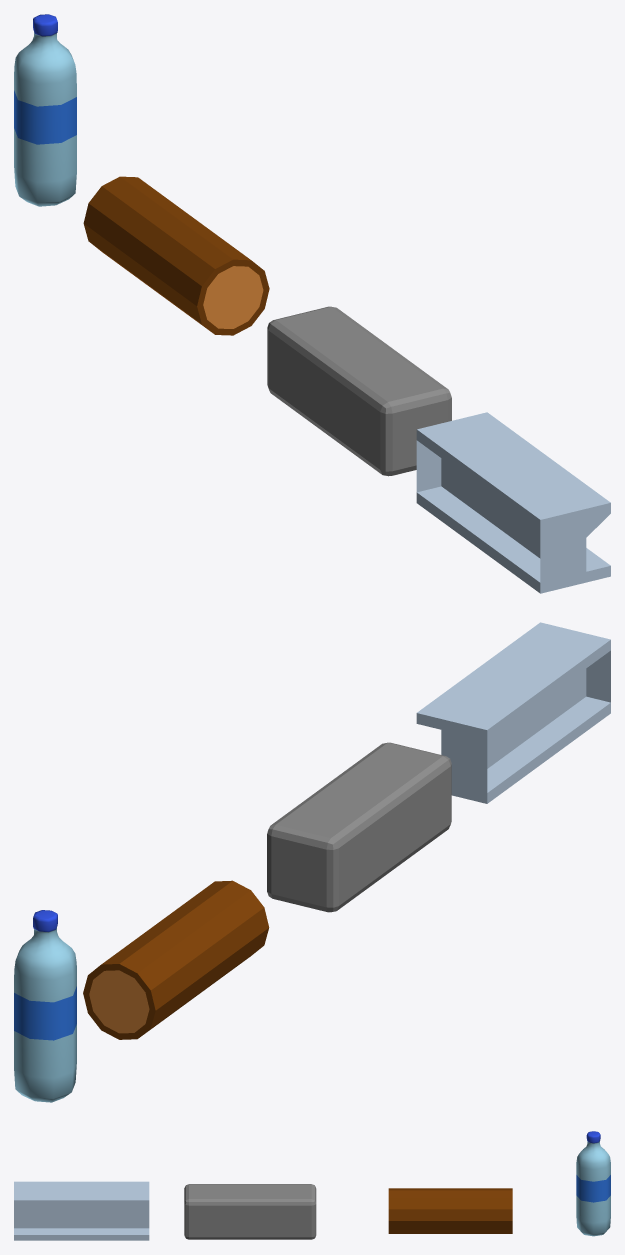
The model's file is StackItems.fbx.
3 renders of one model, top to bottom at view 1: azimuth 30°, elevation 25°; view 2: azimuth 150°, elevation 25°; view 3: azimuth 270°, elevation 25°, orthographic. The views are drawn at different scales.
Parts seen in each view (by area): view 1: Cube.001, Cube, Cylinder, Cube.002; view 2: Cube.001, Cube, Cylinder, Cube.002; view 3: Cube.001, Cube, Cylinder, Cube.002.
Part boxes in pixels (x1,y1,x2,y2): Cube.001: (416, 412, 610, 593); Cube: (267, 306, 451, 476); Cylinder: (83, 176, 269, 335); Cube.002: (14, 14, 76, 206); Cube.001: (416, 622, 610, 803); Cube: (267, 742, 451, 912); Cylinder: (83, 880, 269, 1039); Cube.002: (14, 910, 76, 1102); Cube.001: (14, 1181, 149, 1240); Cube: (184, 1184, 316, 1239); Cylinder: (388, 1188, 512, 1233); Cube.002: (576, 1131, 610, 1236).
Size of the model in its own units: 1.62 by 3.87 by 21.16.
